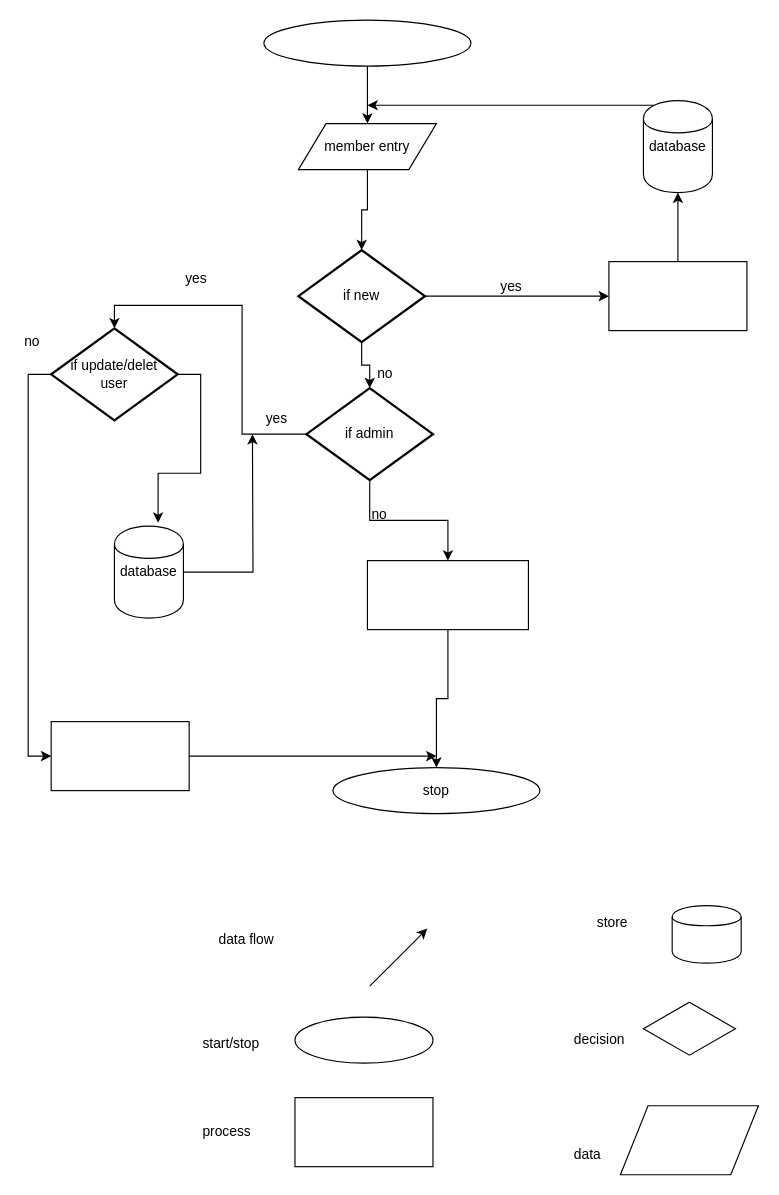
Some shapes in this 779 by 1195 pixel diagram are drawn without their labels. The centre of each missing label's shape, as x and y in pixels:
"change /view /add service" belongs at (x=447, y=594).
"check relevant info ie money ,equipment,works etc" belongs at (x=119, y=755).
"register" belongs at (x=677, y=295).
"start" belongs at (x=367, y=42).
